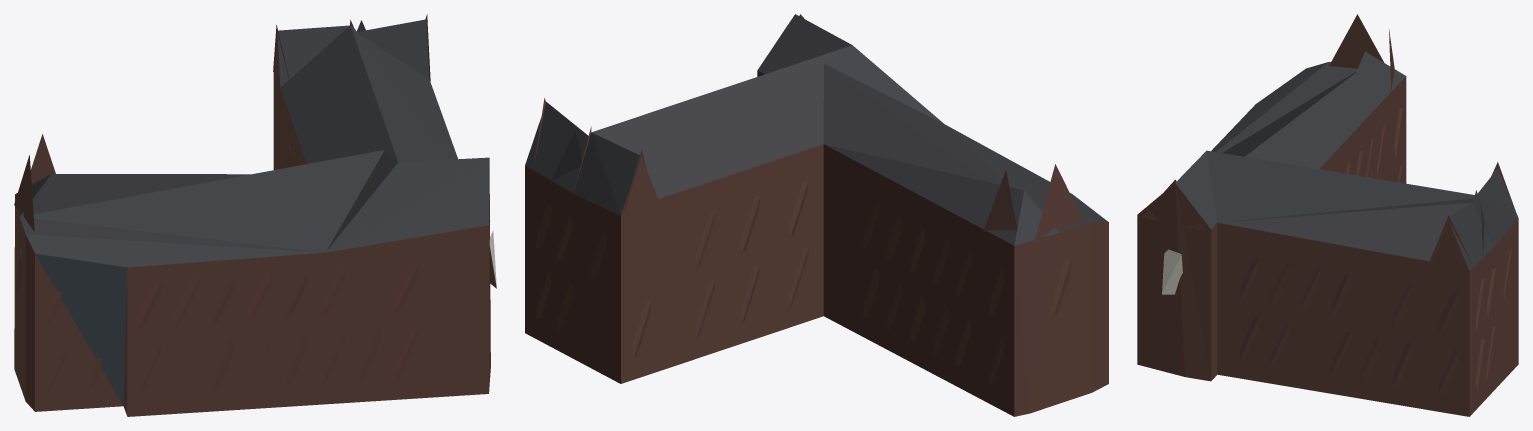
File: school-marnixstraat-2.lod2.glb
The picture shows the model from 3 angles, left to right: view 1: azimuth 30°, elevation 25°; view 2: azimuth 150°, elevation 25°; view 3: azimuth 270°, elevation 25°; orthographic projection. The views are drawn at different scales.
Parts seen in each view (by area): view 1: lod2; view 2: lod2; view 3: lod2.
Boxes of the visible parts, box(x1,y1,x2,y2) form: lod2: box(14, 14, 496, 416); lod2: box(525, 14, 1108, 416); lod2: box(1137, 14, 1518, 416).
Size of the model in its own units: 34.75 by 16 by 26.94.
